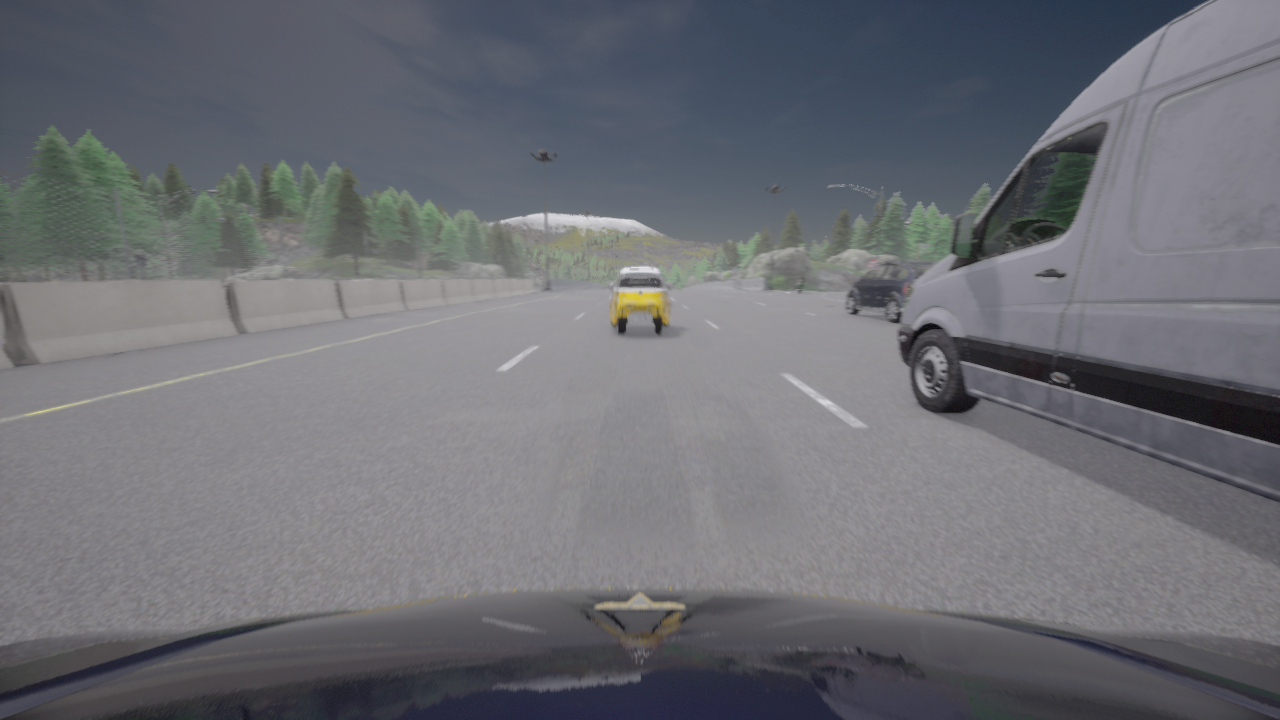cyclist: (897, 0, 1279, 503), (0, 588, 1279, 719), (846, 261, 937, 323), (608, 266, 672, 334), (619, 271, 663, 279), (796, 280, 804, 293)
